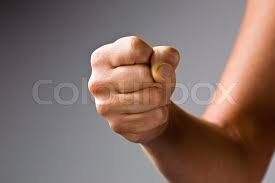fist: (90, 35, 180, 149)
